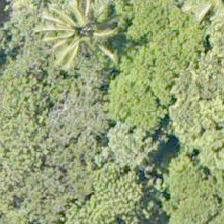Kelapa_Sawit: (28, 0, 118, 76)
